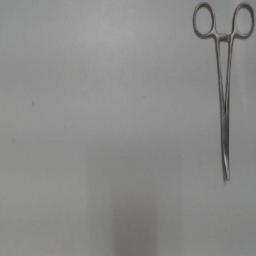Crile Artery Forceps: (190, 2, 256, 188)
